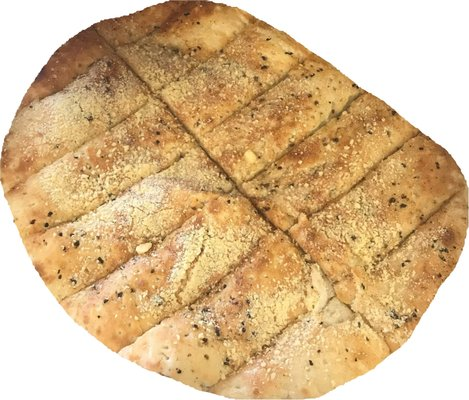sandwich: (1, 3, 469, 390)
